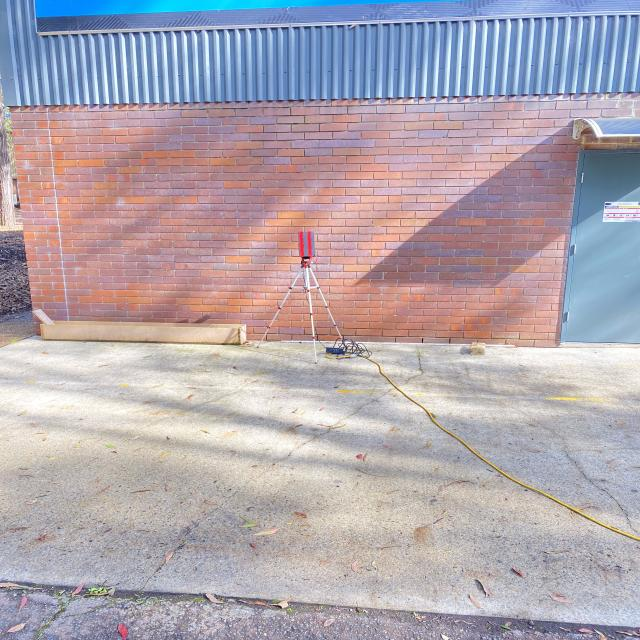matrix: (290, 224, 323, 264)
